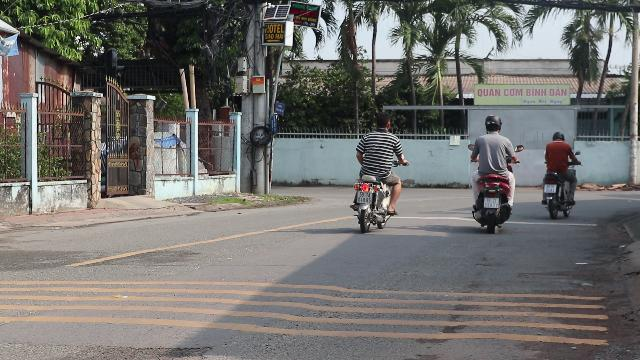helmet: (482, 114, 502, 134)
licenseplate: (356, 192, 372, 202), (485, 198, 499, 208)
motorcyclist: (348, 110, 404, 232), (468, 113, 516, 231)
nohelmet: (374, 112, 391, 131)
